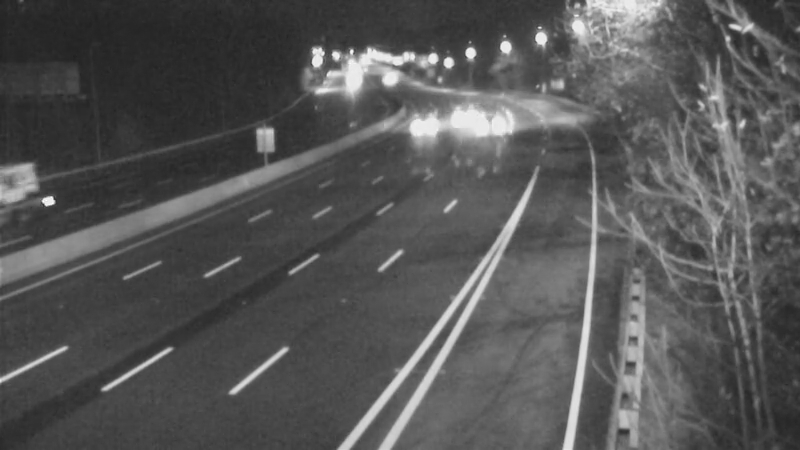vehicle: (1, 156, 69, 236), (365, 57, 415, 107), (438, 83, 488, 133), (388, 104, 438, 154), (467, 98, 517, 148)
